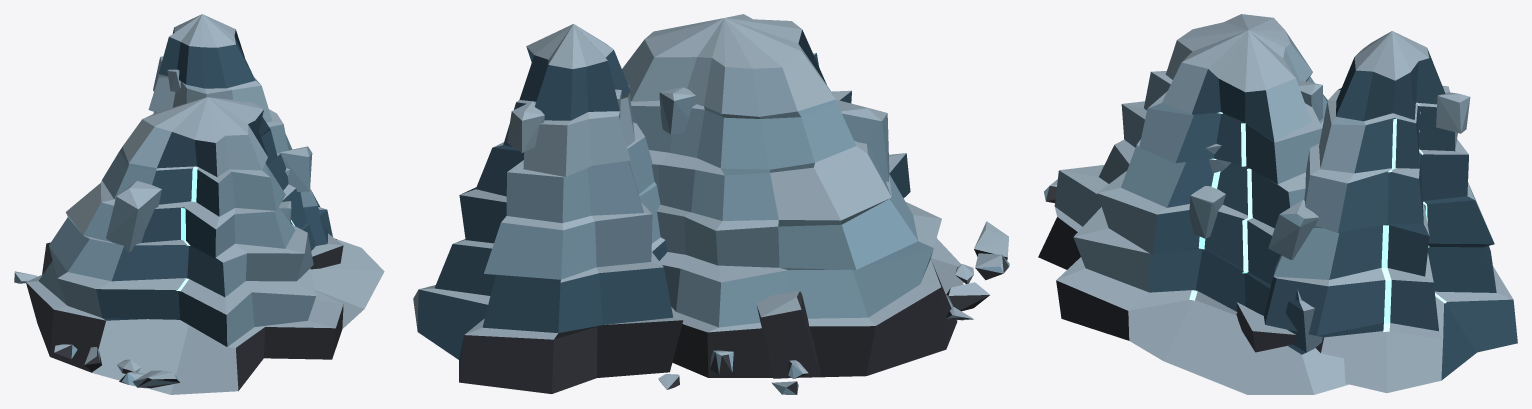
File: cliff_b.glb
The picture shows the model from 3 angles, left to right: view 1: azimuth 30°, elevation 25°; view 2: azimuth 150°, elevation 25°; view 3: azimuth 270°, elevation 25°; orthographic projection. The views are drawn at different scales.
Parts seen in each view (by area): view 1: cliff_b; view 2: cliff_b; view 3: cliff_b.
Part boxes in pixels (x1=…): cliff_b: x1=14, y1=14, x2=384, y2=394; cliff_b: x1=413, y1=14, x2=1009, y2=394; cliff_b: x1=1038, y1=14, x2=1517, y2=394.
Size of the model in its own units: 18.76 by 12.38 by 18.36.
